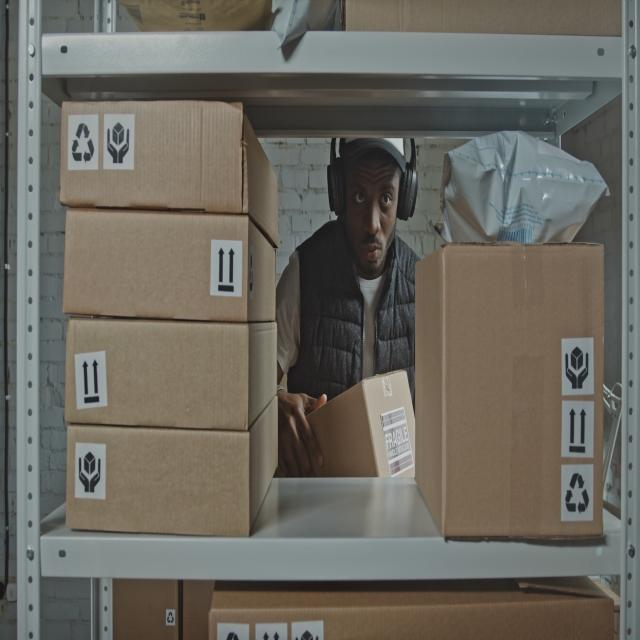counting-the-number-of-boxes: (414, 244, 605, 540), (60, 101, 279, 251), (66, 395, 278, 538), (61, 208, 276, 322), (66, 321, 278, 428), (305, 370, 415, 479)
